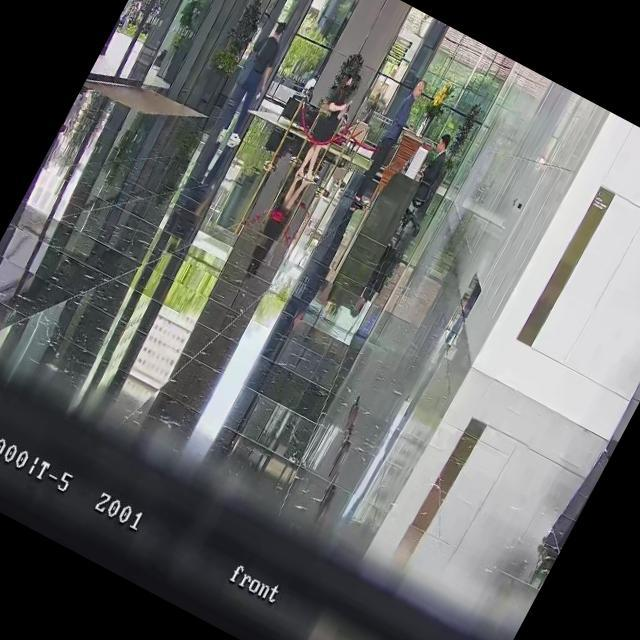person: (272, 65, 366, 208), (205, 16, 298, 153), (347, 74, 430, 210), (402, 130, 464, 217), (360, 89, 382, 124), (300, 70, 319, 94), (300, 84, 316, 106)
